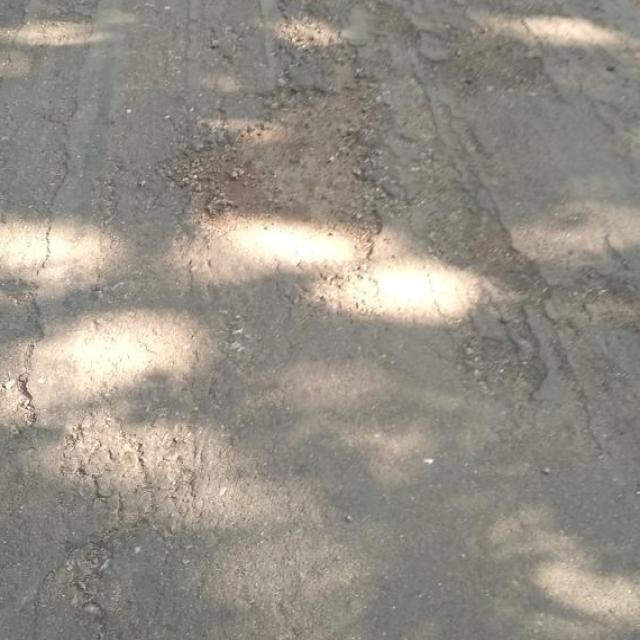road-pothole: (148, 0, 379, 289), (412, 178, 577, 419), (406, 7, 576, 106)
